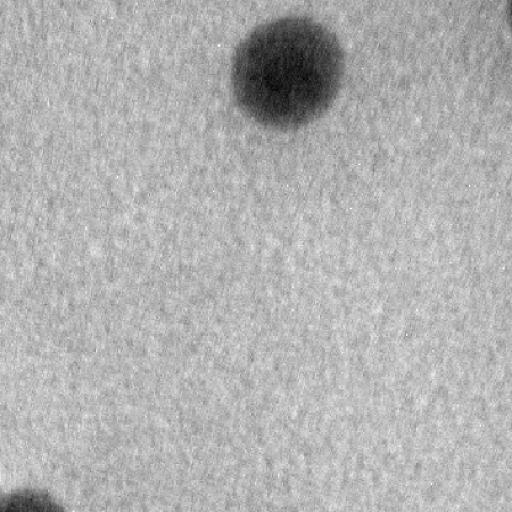Nanoparticles: (226, 14, 348, 132), (0, 488, 66, 510)
